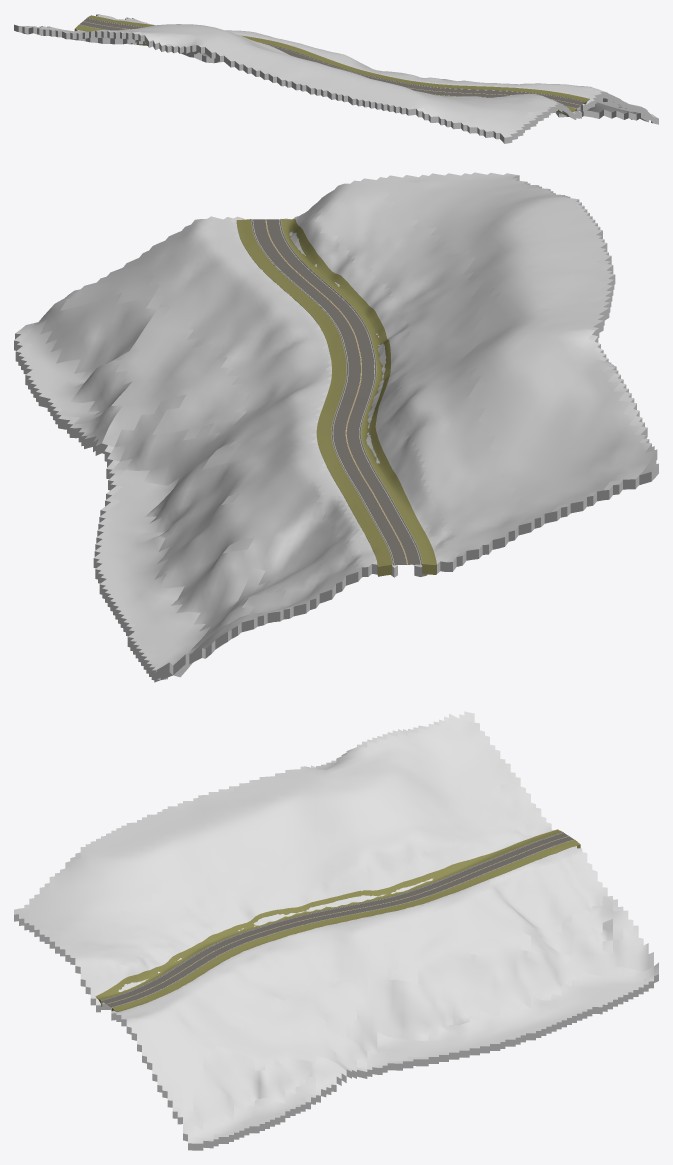
The model's file is conz_82.glb.
3 views of the same model, one above another, from view 1: azimuth 30°, elevation 25°; view 2: azimuth 150°, elevation 25°; view 3: azimuth 270°, elevation 25° (orthographic). The views are drawn at different scales.
Parts seen in each view (by area): view 1: terrain82, road82, verge82L, kerb82_80228, verge82R; view 2: terrain82, road82, verge82L, verge82R, paint_white82; view 3: terrain82, road82, verge82R, verge82L.
Boxes of the visible parts, <box> form: terrain82: <box>14,14,658,143</box>; road82: <box>79,18,585,108</box>; verge82L: <box>87,15,589,104</box>; kerb82_80228: <box>87,17,585,101</box>; verge82R: <box>74,25,576,116</box>; terrain82: <box>14,172,658,682</box>; road82: <box>251,219,421,565</box>; verge82L: <box>236,219,392,576</box>; verge82R: <box>281,218,436,574</box>; paint_white82: <box>252,219,420,564</box>; terrain82: <box>14,711,658,1150</box>; road82: <box>101,832,573,1007</box>; verge82R: <box>95,829,562,1006</box>; verge82L: <box>111,840,580,1011</box>.
Size of the model in its own units: 264 by 70.02 by 252.
